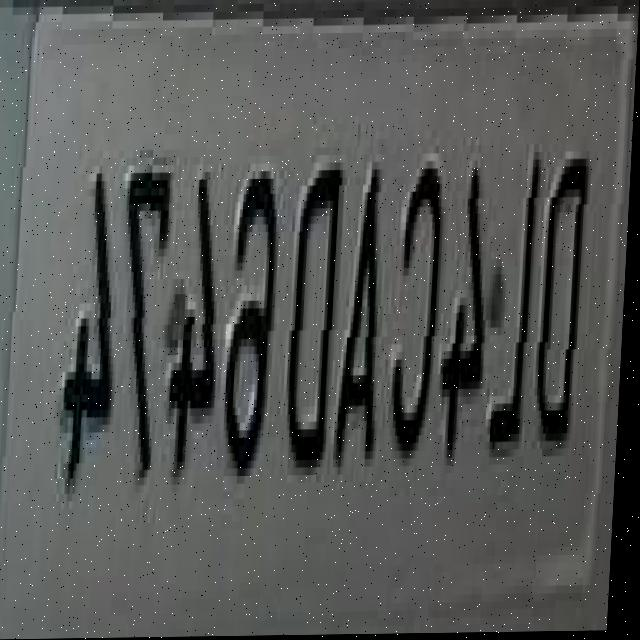plate: (0, 8, 639, 640)
